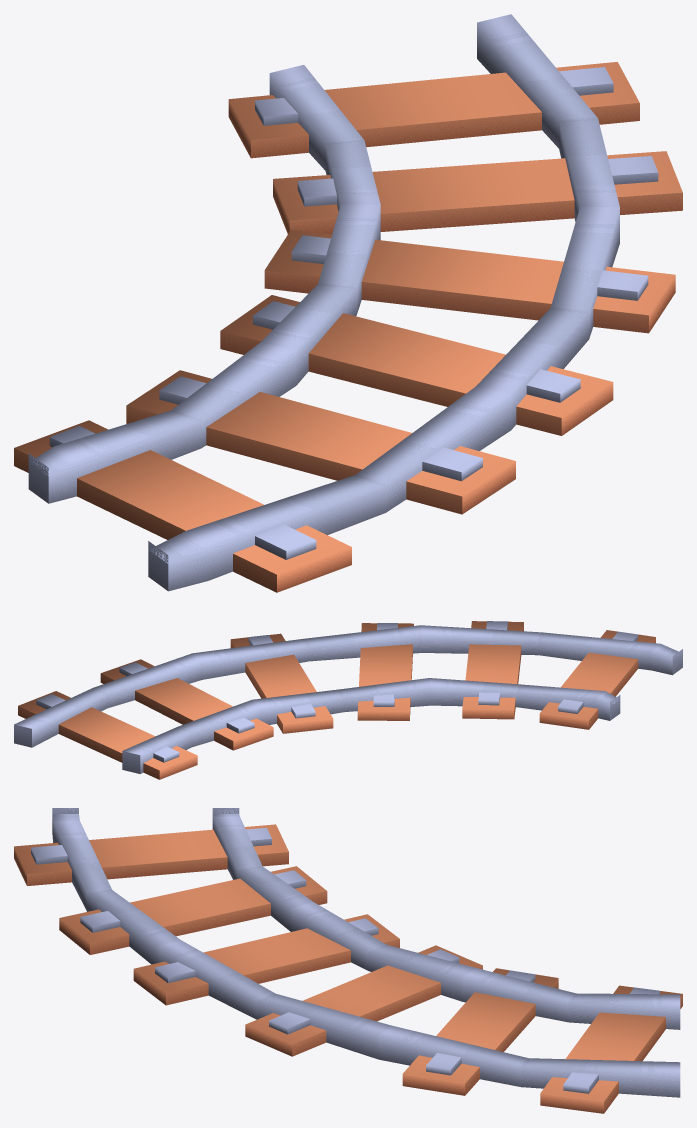
File: railroad-damaged-corner-small.glb
3 views of the same model, one above another, from view 1: azimuth 30°, elevation 25°; view 2: azimuth 150°, elevation 25°; view 3: azimuth 270°, elevation 25° (orthographic). The views are drawn at different scales.
Visible parts, largest first — view 1: railroad-damaged-corner-small; view 2: railroad-damaged-corner-small; view 3: railroad-damaged-corner-small.
Part boxes in pixels (box(x1,y1,x2,y2)): railroad-damaged-corner-small: box(14, 14, 682, 592); railroad-damaged-corner-small: box(14, 621, 682, 779); railroad-damaged-corner-small: box(14, 808, 682, 1113).
Size of the model in its own units: 2.49 by 0.1 by 2.5.
Materials: 1 (1 with a texture image).
